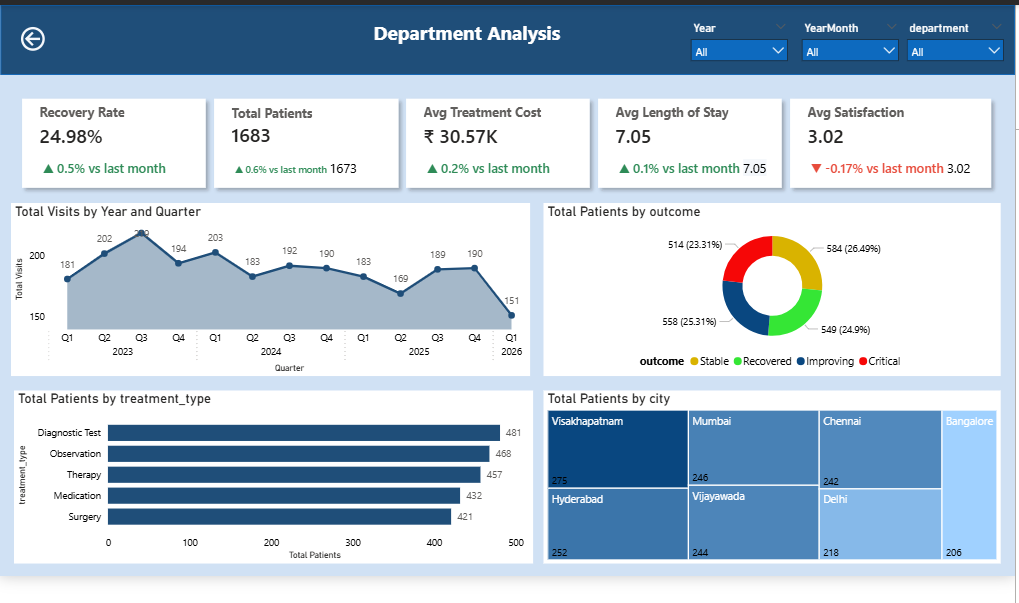

What the dashboard file says about the page in this screenshot:
{"tool":"powerbi","page":{"name":"Department Details","canvas":[1280,720],"ordinal":1},"visuals":[{"type":"shape","box":[2,0,1278,88],"z":0},{"type":"textbox","box":[302,14,574,44],"z":1000},{"type":"actionButton","box":[23.3,23.3,100,40],"z":2000},{"type":"cardVisual","fields":{"Data":["All Measures.Total Patients"]},"box":[242,88.3,290,170],"z":3000},{"type":"cardVisual","fields":{"Data":["All Measures.Avg Treatment Cost"]},"box":[484.4,87.9,289.5,170.8],"z":4000},{"type":"cardVisual","fields":{"Data":["All Measures.Avg Satisfaction"]},"box":[968.3,88.3,311.7,170],"z":5000},{"type":"cardVisual","fields":{"Data":["All Measures.Avg Length of Stay"]},"box":[726.4,87.9,289.5,170.8],"z":6000},{"type":"cardVisual","fields":{"Data":["All Measures.Recovery Rate"]},"box":[0,87.9,289.5,170.8],"z":7000},{"type":"slicer","fields":{"Values":["DateTable.Year"]},"box":[862,16,142,58],"z":8000},{"type":"slicer","fields":{"Values":["healthcare_doctors_clean.department"]},"box":[1134,16,142,58],"z":9000},{"type":"slicer","fields":{"Values":["DateTable.YearMonth"]},"box":[1002,16,142,58],"z":10000},{"type":"lineChart","fields":{"Y":["All Measures.Total Visits"],"Category":["DateTable.Year","DateTable.Quarter"]},"box":[16,250,654,218],"z":11000},{"type":"clusteredBarChart","fields":{"Y":["All Measures.Total Patients"],"Category":["healthcare_visits_clean.treatment_type"]},"box":[18,486,654,218],"z":12000},{"type":"donutChart","fields":{"Y":["All Measures.Total Patients"],"Category":["healthcare_visits_clean.outcome"]},"box":[686,250,576,218],"z":13000},{"type":"treemap","fields":{"Values":["All Measures.Total Patients"],"Group":["healthcare_patients_clean.city"]},"box":[686,486,576,218],"z":14000}]}

Visuals, with their boxes on the page's 1280x720 design canvas (x1, y1, x2, y2). These are canvas units, not pixel positions in the 1019x603 screenshot, which may show the page scaled, cropped or inside an application window:
shape: bbox=(2, 0, 1280, 88)
textbox: bbox=(302, 14, 876, 58)
actionButton: bbox=(23, 23, 123, 63)
cardVisual - All Measures.Total Patients: bbox=(242, 88, 532, 258)
cardVisual - All Measures.Avg Treatment Cost: bbox=(484, 88, 774, 259)
cardVisual - All Measures.Avg Satisfaction: bbox=(968, 88, 1280, 258)
cardVisual - All Measures.Avg Length of Stay: bbox=(726, 88, 1016, 259)
cardVisual - All Measures.Recovery Rate: bbox=(0, 88, 290, 259)
slicer - DateTable.Year: bbox=(862, 16, 1004, 74)
slicer - healthcare_doctors_clean.department: bbox=(1134, 16, 1276, 74)
slicer - DateTable.YearMonth: bbox=(1002, 16, 1144, 74)
lineChart - All Measures.Total Visits x DateTable.Year: bbox=(16, 250, 670, 468)
clusteredBarChart - All Measures.Total Patients x healthcare_visits_clean.treatment_type: bbox=(18, 486, 672, 704)
donutChart - All Measures.Total Patients x healthcare_visits_clean.outcome: bbox=(686, 250, 1262, 468)
treemap - All Measures.Total Patients x healthcare_patients_clean.city: bbox=(686, 486, 1262, 704)
